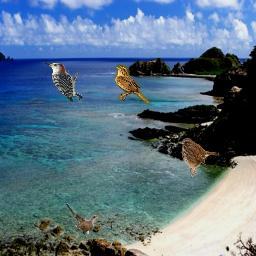Cuckoo: (66, 203, 99, 237)
Sparrow: (180, 138, 219, 178), (115, 64, 151, 104)
Woodpecker: (43, 62, 82, 102)
